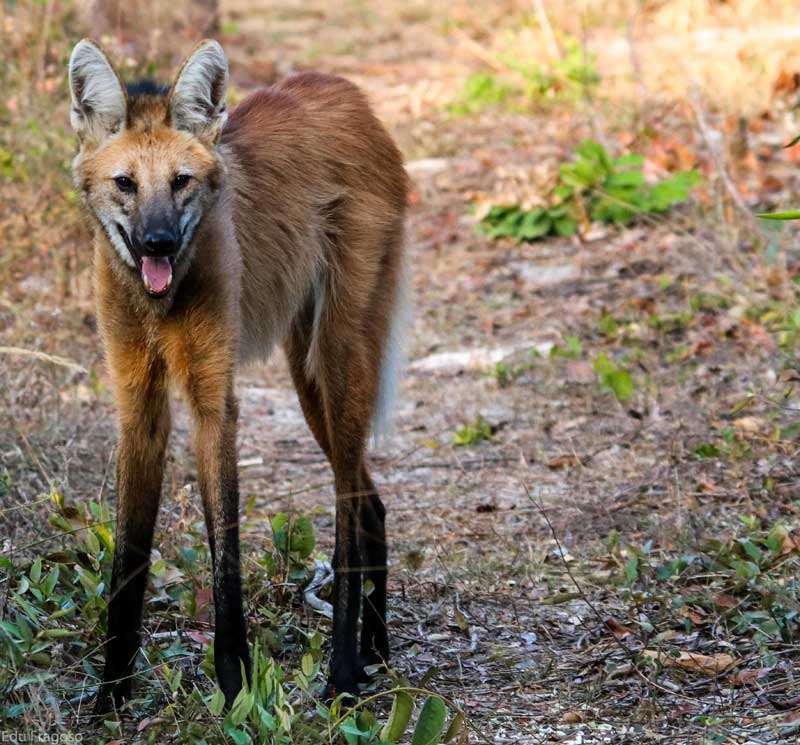LoboGuara: (57, 28, 419, 707)
